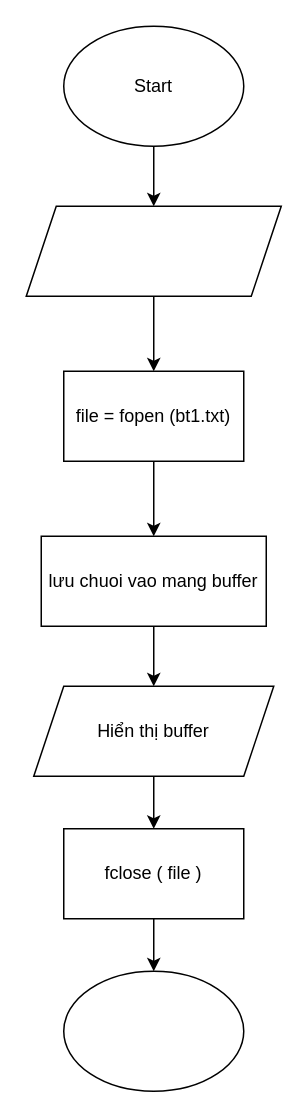
Image size: 308x1118. Some labels were removed from this diagram. Each missing label, with the centre of its shape:
END: the point at 153,1030
FILE *file, buffer[1000]: the point at 153,250
